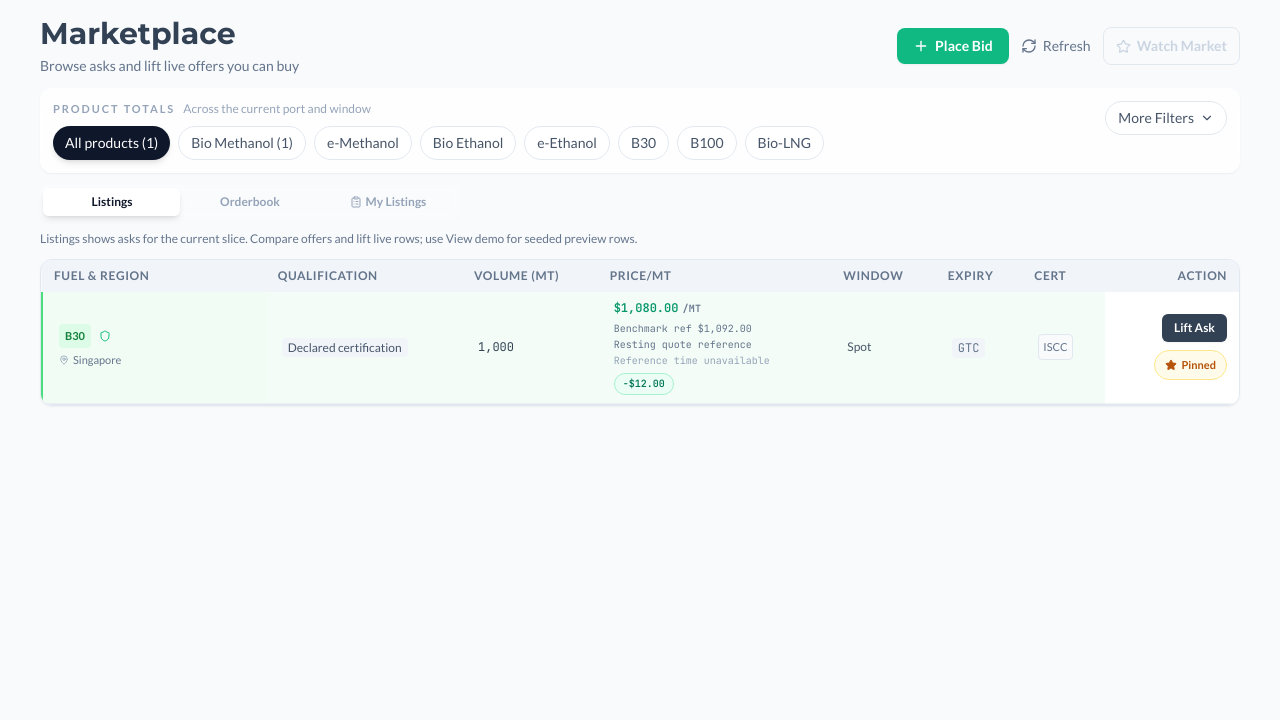
Test: Marketplace green fuels surface › filters B30 and keeps its fixed specification visible when inspecting a listing
Click the button "B30": (644, 142) [618,126,669,160]
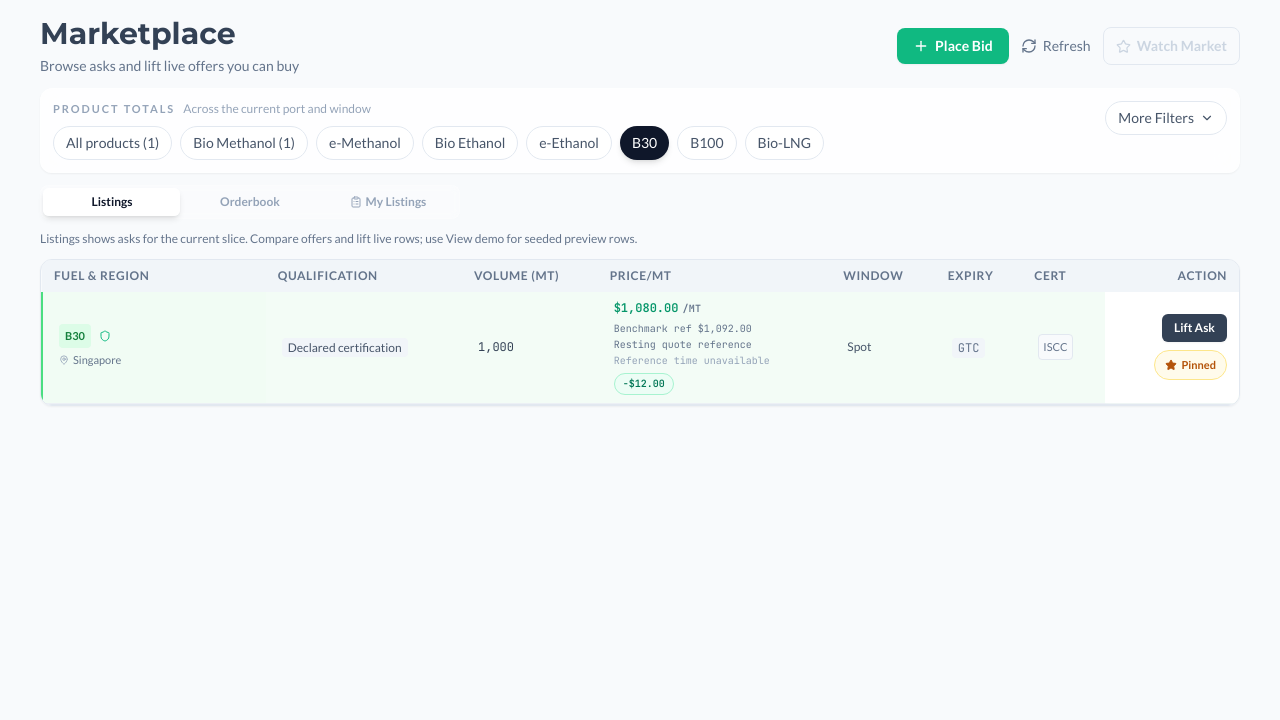
Click the button "Lift Ask": (1194, 328) [1162,314,1227,342]
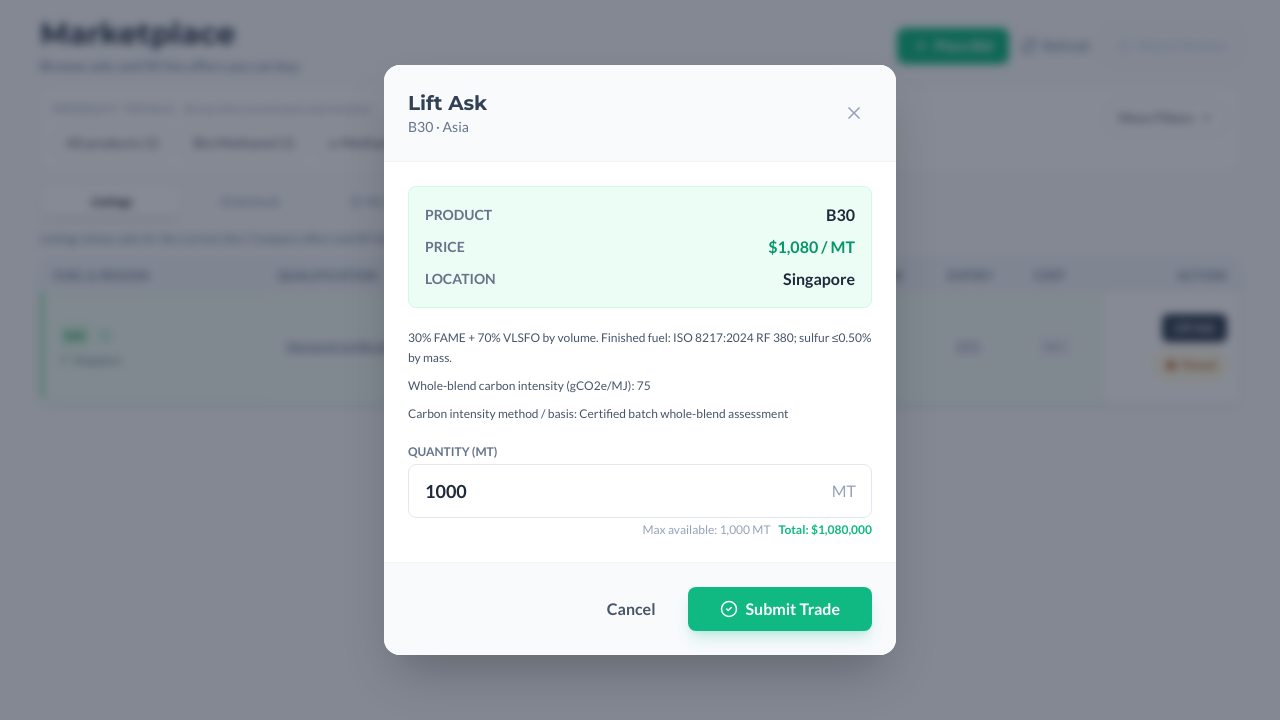
Expected: the text "Certified batch whole-blend assessment" is shown, [579,406,788,421]
